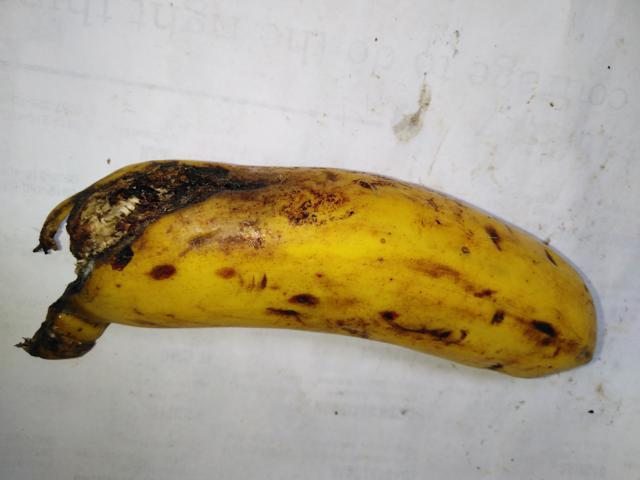ripe: (222, 137, 615, 389)
rotten: (30, 119, 272, 335)
